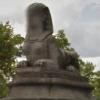Statue: (19, 2, 83, 71)
